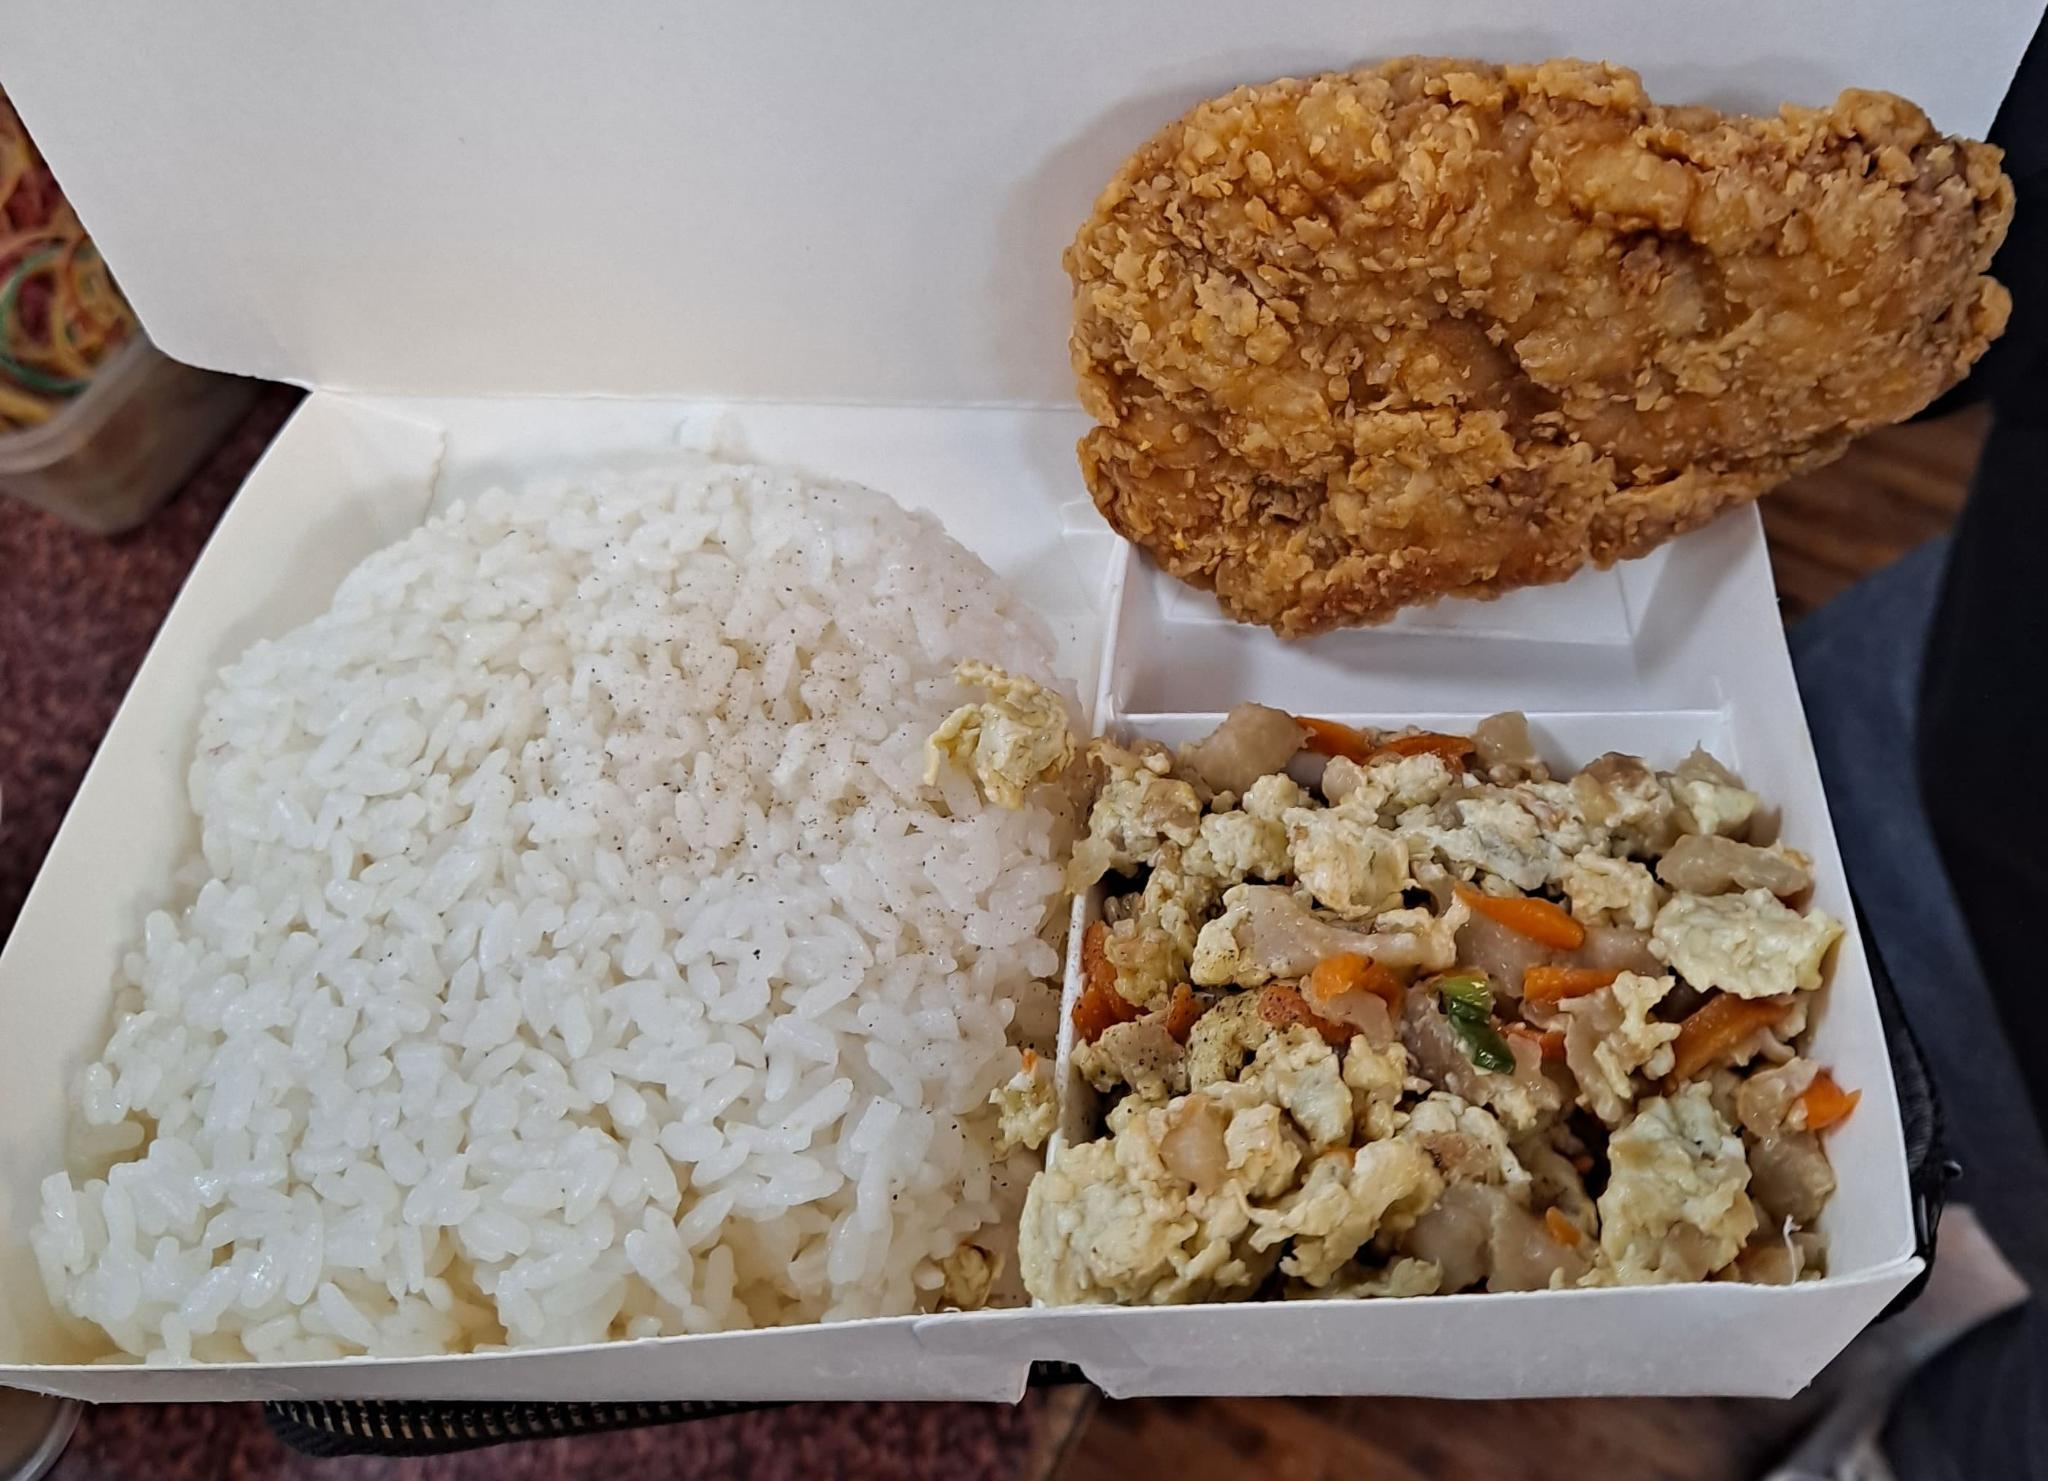big grilled chicken leg: (13, 337, 1926, 1459)
big herbal chicken leg: (40, 442, 1088, 1368)
braised fish fillet: (948, 679, 1859, 1330)
braised pork: (1048, 45, 2018, 641)
